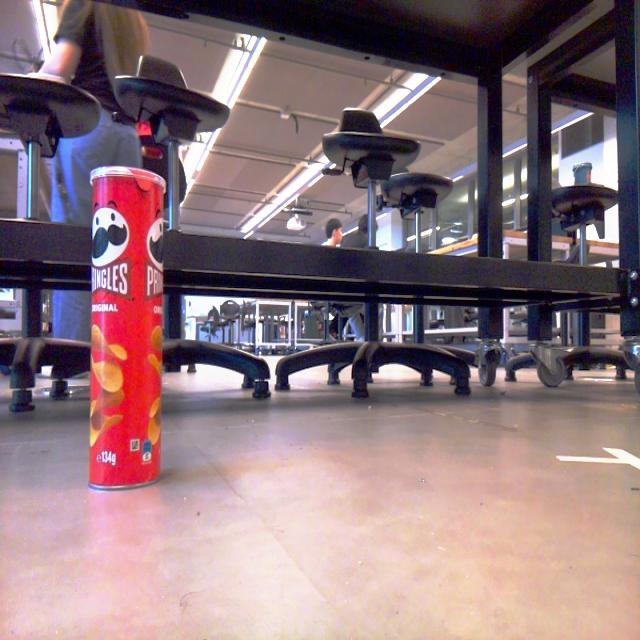redpringles: (74, 150, 172, 500)
